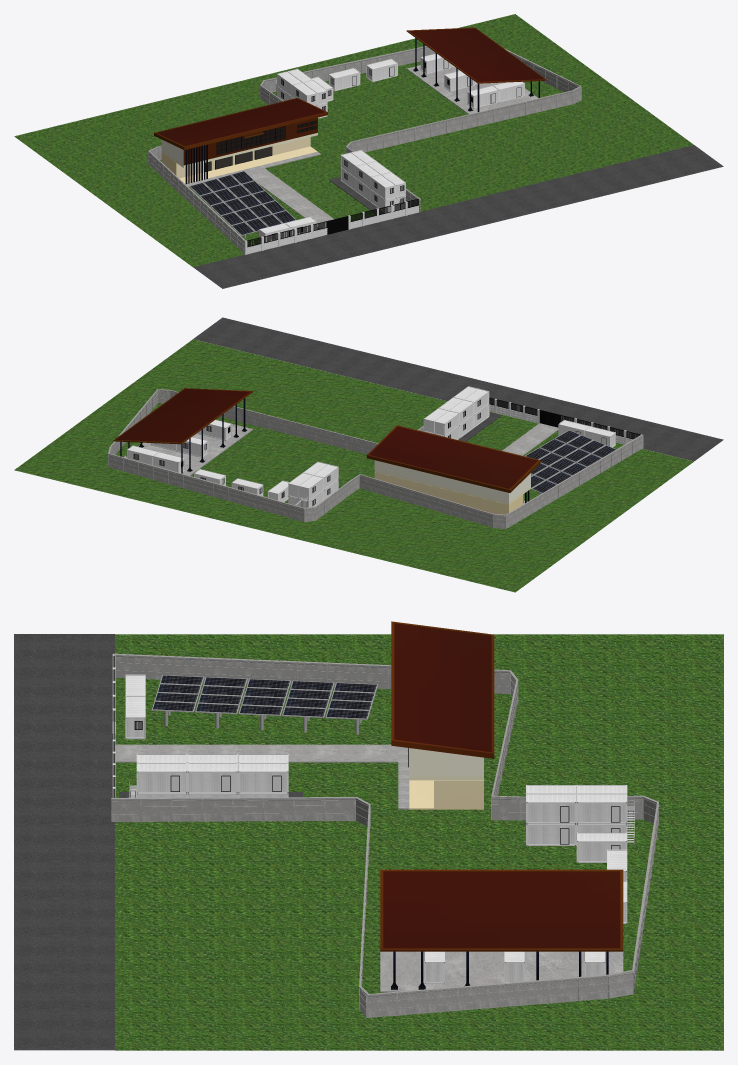
Rendered from velmiro-office.glb.
3 renders of one model, top to bottom at view 1: azimuth 30°, elevation 25°; view 2: azimuth 150°, elevation 25°; view 3: azimuth 270°, elevation 25°, orthographic. The views are drawn at different scales.
Parts seen in each view (by area): view 1: Plane, Plane.002, Cube.008, Cube.005, Cube.010, Cube, Plane.005, Cube.002, Cube.022, Cube.006, Cube.012, Cube.015 (+8 smaller); view 2: Plane, Plane.002, Cube.005, Cube.008, Cube.010, Cube, Cube.022, Cube.036, Cube.015, Plane.005, Cube.024, Cube.006 (+6 smaller); view 3: Plane, Plane.002, Cube.010, Cube.005, Cube.008, Cube, Cube.023, Plane.005, Cube.016, Cube.014, Cube.024, Cube.022 (+4 smaller).
Part boxes in pixels (x1,y1,x2,y2): Plane: (14,14,693,266); Plane.002: (193,145,723,288); Cube.008: (154,98,327,186); Cube.005: (148,46,581,253); Cube.010: (406,27,546,114); Cube: (189,171,295,235); Plane.005: (246,168,333,228); Cube.002: (244,221,327,254); Cube.022: (340,152,395,200); Cube.006: (348,199,418,229); Cube.012: (467,81,524,108); Cube.015: (277,71,317,106); Plane: (14,339,693,592); Plane.002: (193,317,723,461); Cube.005: (107,389,642,529); Cube.008: (366,425,540,514); Cube.010: (113,388,253,475); Cube: (524,430,615,493); Cube.022: (434,388,489,436); Cube.036: (127,445,184,473); Cube.015: (298,464,338,501); Plane.005: (502,423,558,455); Cube.024: (558,420,615,447); Cube.006: (489,397,539,423); Plane: (115,634,723,1050); Plane.002: (14,634,114,1050); Cube.010: (380,869,623,992); Cube.005: (111,653,658,1018); Cube.008: (391,621,494,809); Cube: (151,675,378,719); Cube.023: (136,763,288,793); Plane.005: (115,744,398,762); Cube.016: (526,793,627,823); Cube.014: (526,823,627,845); Cube.024: (125,674,145,739); Cube.022: (136,754,288,763).
Bounding box in the file's own units: 118 × 10.61 × 84.71.
14 materials, 8 textured.
